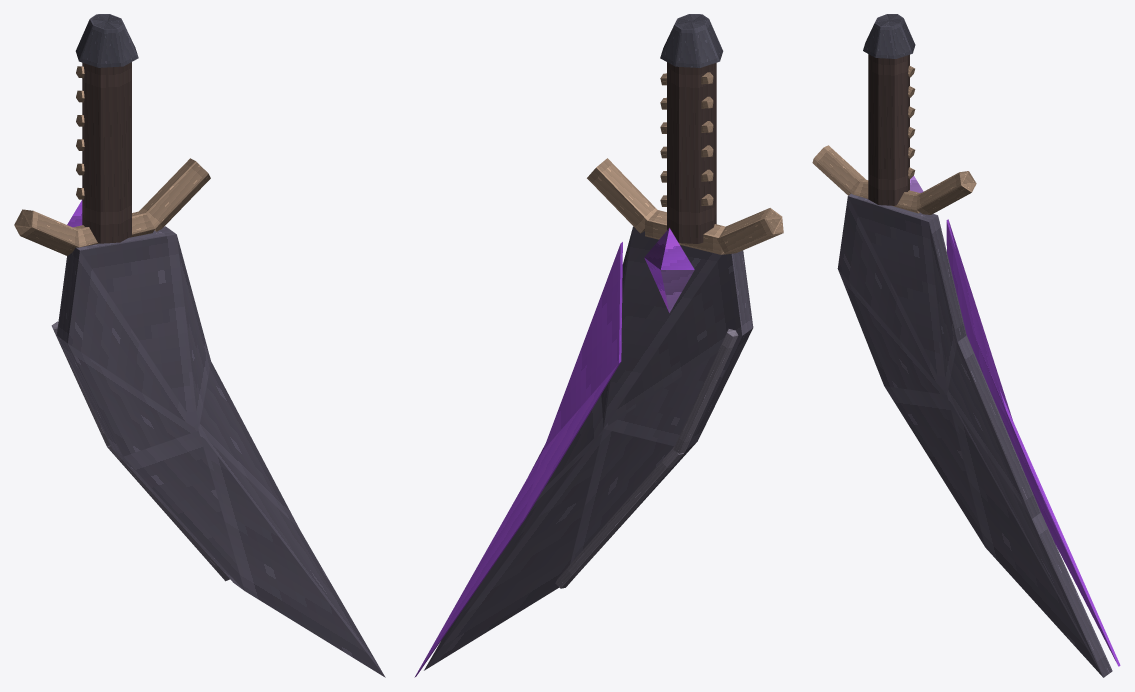
The model's file is shelianer_dagger.gltf.
The picture shows the model from 3 angles, left to right: view 1: azimuth 30°, elevation 25°; view 2: azimuth 150°, elevation 25°; view 3: azimuth 330°, elevation 25°; orthographic projection. The views are drawn at different scales.
Visible parts, largest first — view 1: dagger_mesh; view 2: dagger_mesh; view 3: dagger_mesh.
Boxes of the visible parts, box(x1,y1,x2,y2) form: dagger_mesh: box(14, 14, 385, 677); dagger_mesh: box(414, 14, 783, 677); dagger_mesh: box(812, 14, 1120, 677).
Size of the model in its own units: 0.2829 by 0.54 by 0.0648.
1 material, 1 textured.
